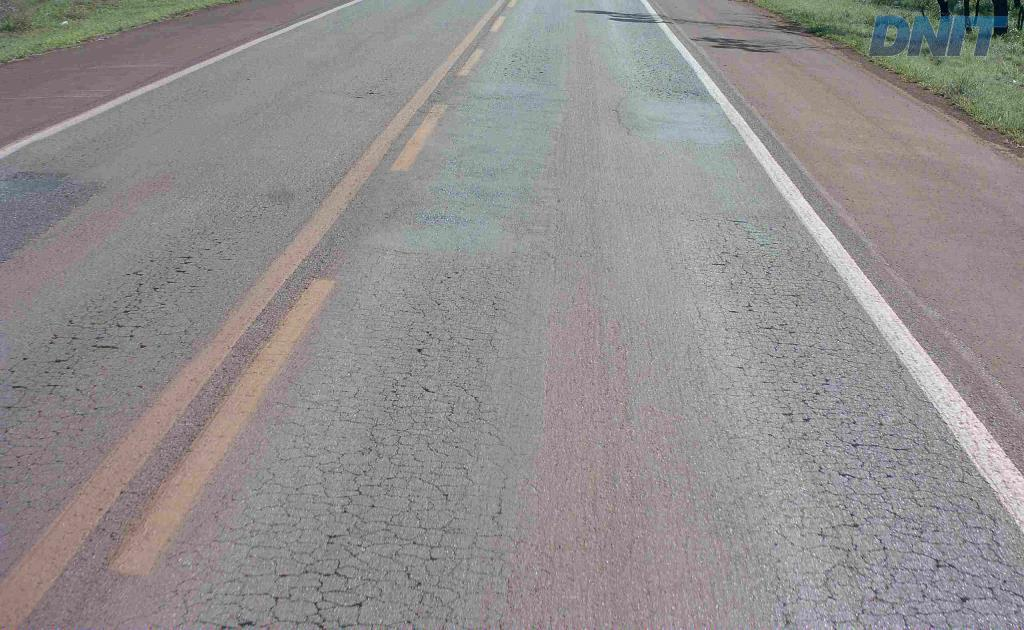crack: (273, 555, 377, 606)
